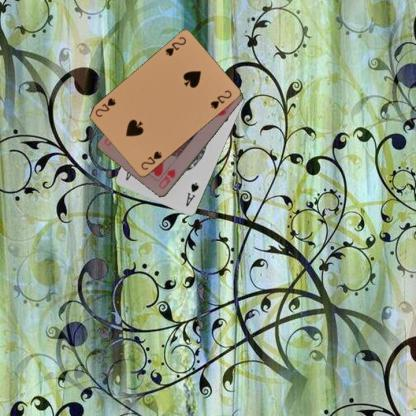2s: (162, 34, 188, 58), (138, 148, 163, 172)
As: (183, 180, 200, 208)
Qh: (156, 167, 177, 191)
